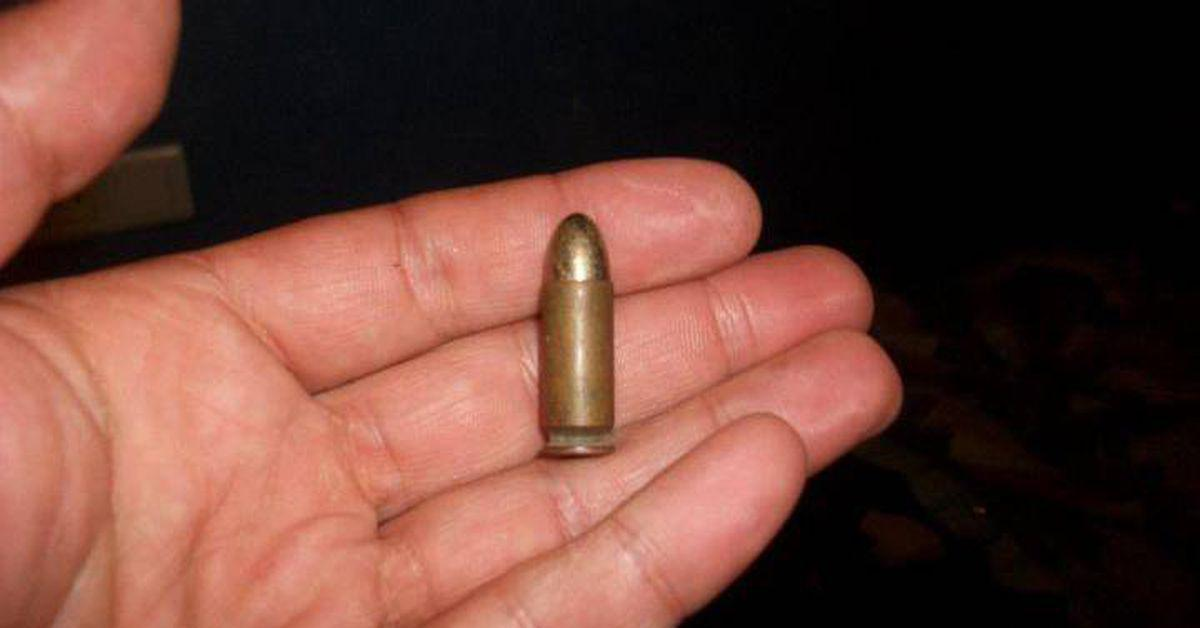Bullet: (526, 207, 627, 469)
